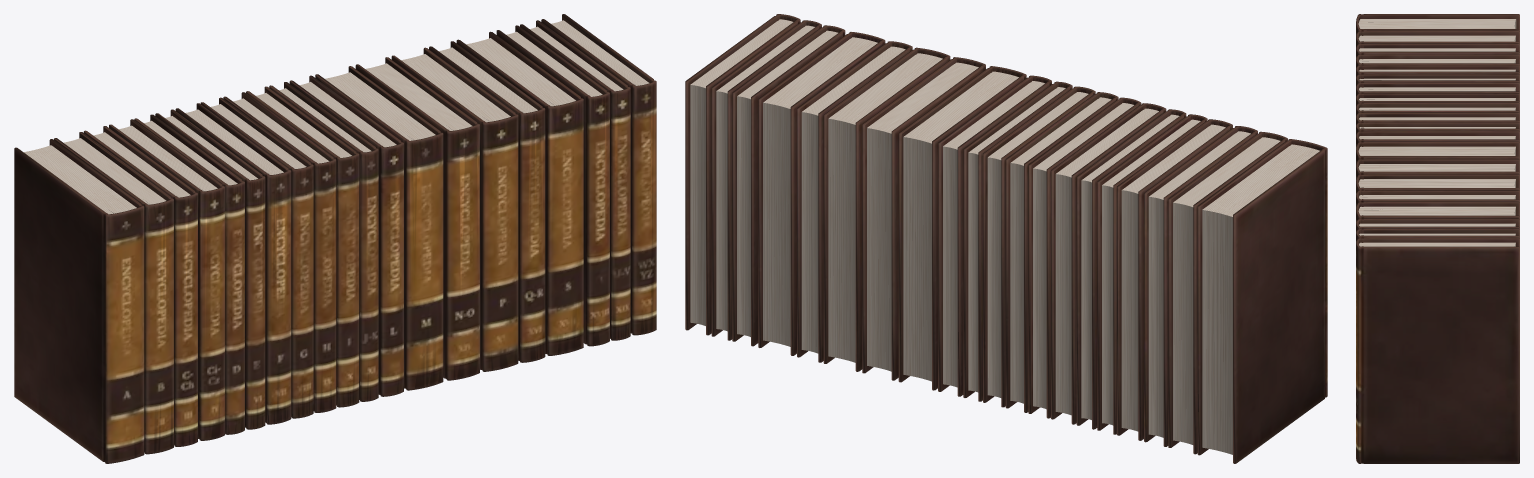
File: ph_book_encyclopedia_set_01.glb
3 renders of one model, left to right at view 1: azimuth 30°, elevation 25°; view 2: azimuth 150°, elevation 25°; view 3: azimuth 270°, elevation 25°, orthographic. The views are drawn at different scales.
Parts seen in each view (by area): view 1: book_encyclopedia_set_01_book01, book_encyclopedia_set_01_book13, book_encyclopedia_set_01_book15, book_encyclopedia_set_01_book17, book_encyclopedia_set_01_book14, book_encyclopedia_set_01_book02, book_encyclopedia_set_01_book16, book_encyclopedia_set_01_book04, book_encyclopedia_set_01_book18, book_encyclopedia_set_01_book20, book_encyclopedia_set_01_book07, book_encyclopedia_set_01_book12 (+8 smaller); view 2: book_encyclopedia_set_01_book01, book_encyclopedia_set_01_book13, book_encyclopedia_set_01_book15, book_encyclopedia_set_01_book17, book_encyclopedia_set_01_book14, book_encyclopedia_set_01_book02, book_encyclopedia_set_01_book04, book_encyclopedia_set_01_book16, book_encyclopedia_set_01_book18, book_encyclopedia_set_01_book20, book_encyclopedia_set_01_book07, book_encyclopedia_set_01_book12 (+8 smaller); view 3: book_encyclopedia_set_01_book20, book_encyclopedia_set_01_book13, book_encyclopedia_set_01_book01, book_encyclopedia_set_01_book17, book_encyclopedia_set_01_book15, book_encyclopedia_set_01_book14, book_encyclopedia_set_01_book02, book_encyclopedia_set_01_book16, book_encyclopedia_set_01_book03, book_encyclopedia_set_01_book12, book_encyclopedia_set_01_book07, book_encyclopedia_set_01_book04 (+8 smaller).
Boxes of the visible parts, x1,y1,x2,y2 form: book_encyclopedia_set_01_book01: [14, 139, 144, 463]; book_encyclopedia_set_01_book13: [315, 66, 443, 390]; book_encyclopedia_set_01_book15: [391, 47, 518, 371]; book_encyclopedia_set_01_book17: [456, 31, 583, 355]; book_encyclopedia_set_01_book14: [355, 57, 479, 380]; book_encyclopedia_set_01_book02: [54, 132, 173, 454]; book_encyclopedia_set_01_book16: [429, 41, 545, 362]; book_encyclopedia_set_01_book04: [109, 119, 224, 440]; book_encyclopedia_set_01_book18: [496, 25, 609, 346]; book_encyclopedia_set_01_book20: [541, 14, 656, 335]; book_encyclopedia_set_01_book07: [175, 103, 291, 424]; book_encyclopedia_set_01_book12: [289, 75, 403, 396]; book_encyclopedia_set_01_book01: [1197, 139, 1327, 463]; book_encyclopedia_set_01_book13: [898, 66, 1026, 390]; book_encyclopedia_set_01_book15: [823, 47, 950, 371]; book_encyclopedia_set_01_book17: [758, 32, 885, 355]; book_encyclopedia_set_01_book14: [862, 57, 985, 380]; book_encyclopedia_set_01_book02: [1168, 131, 1287, 454]; book_encyclopedia_set_01_book04: [1117, 119, 1232, 440]; book_encyclopedia_set_01_book16: [797, 41, 912, 362]; book_encyclopedia_set_01_book18: [732, 25, 845, 346]; book_encyclopedia_set_01_book20: [685, 14, 800, 335]; book_encyclopedia_set_01_book07: [1051, 103, 1166, 424]; book_encyclopedia_set_01_book12: [938, 75, 1051, 396]; book_encyclopedia_set_01_book20: [1356, 238, 1519, 463]; book_encyclopedia_set_01_book13: [1356, 142, 1519, 165]; book_encyclopedia_set_01_book01: [1356, 14, 1519, 35]; book_encyclopedia_set_01_book17: [1356, 202, 1519, 221]; book_encyclopedia_set_01_book15: [1356, 174, 1519, 194]; book_encyclopedia_set_01_book14: [1356, 159, 1519, 180]; book_encyclopedia_set_01_book02: [1356, 30, 1519, 47]; book_encyclopedia_set_01_book16: [1356, 190, 1519, 222]; book_encyclopedia_set_01_book03: [1356, 43, 1519, 58]; book_encyclopedia_set_01_book12: [1356, 131, 1519, 149]; book_encyclopedia_set_01_book07: [1356, 82, 1519, 96]; book_encyclopedia_set_01_book04: [1356, 54, 1519, 68].
Size of the model in its own units: 0.5513 by 0.2374 by 0.1631.
Materials: 2 (2 with a texture image).
